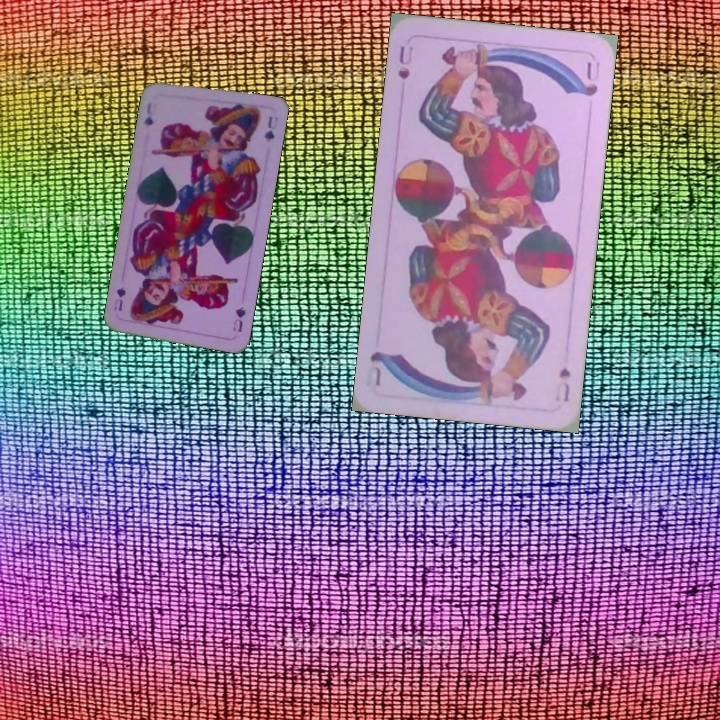GU: (229, 302, 248, 334), (139, 98, 156, 130)
SU: (394, 41, 416, 82), (554, 363, 573, 405)
